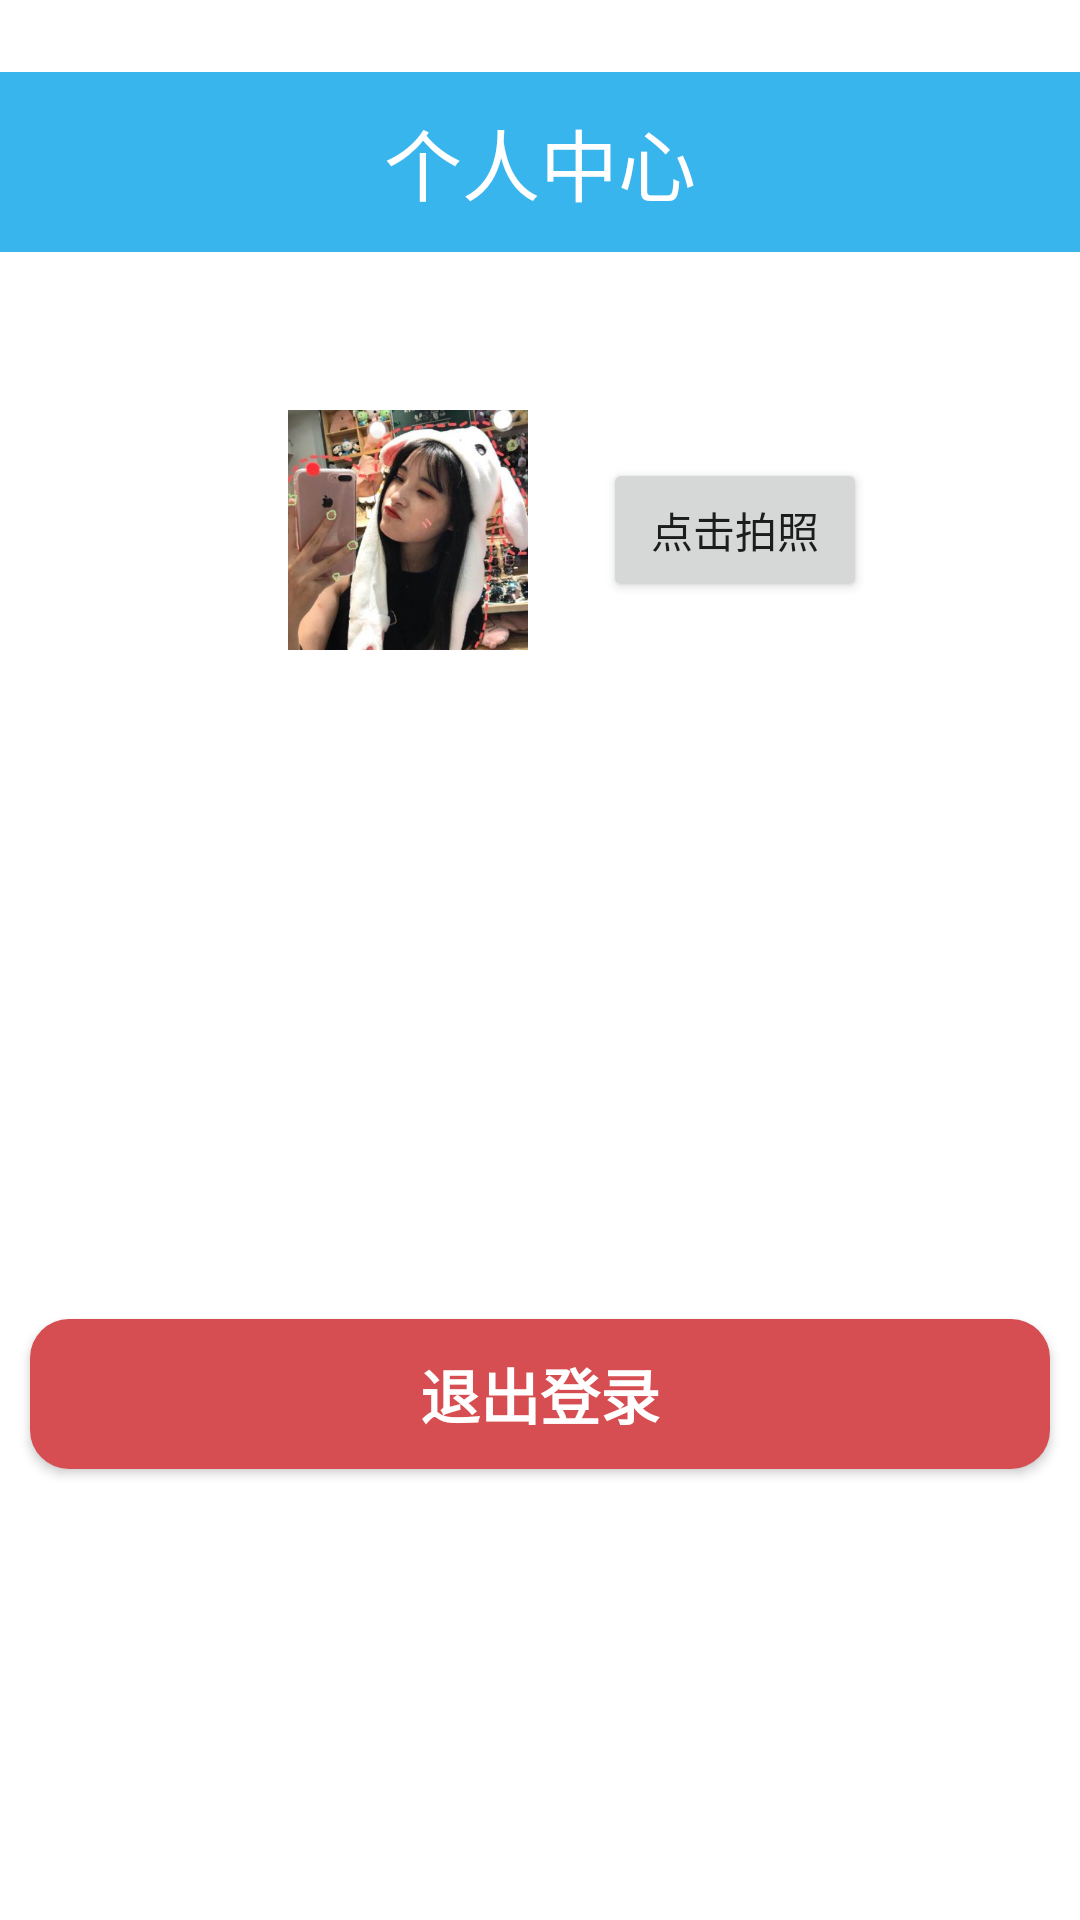

Point at icon controls on the screen. Image size 1080 x 1920, points as (x=x, y=y).
girl: (x=408, y=530)
